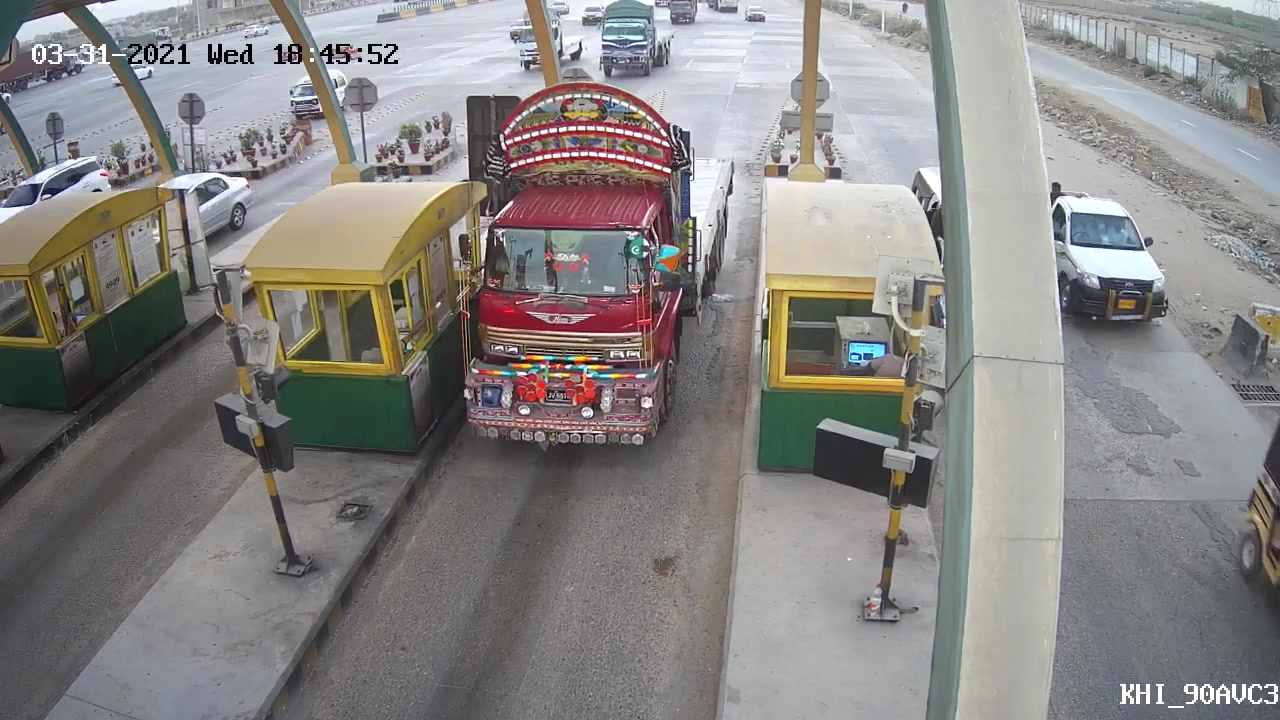F5: (438, 84, 736, 454)
